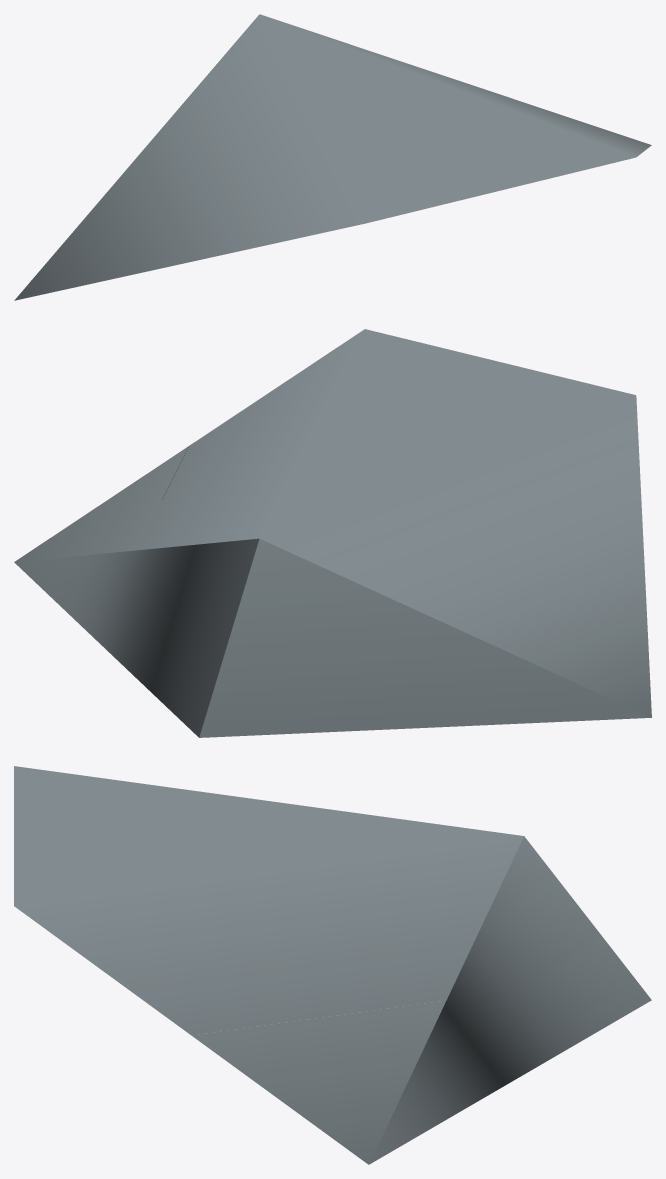
The model's file is rock-mid.glb.
3 renders of one model, top to bottom at view 1: azimuth 30°, elevation 25°; view 2: azimuth 150°, elevation 25°; view 3: azimuth 270°, elevation 25°, orthographic. The views are drawn at different scales.
Visible parts, largest first — view 1: rock_single_A; view 2: rock_single_A; view 3: rock_single_A.
Boxes of the visible parts, x1,y1,x2,y2 form: rock_single_A: (14,14,651,300); rock_single_A: (14,329,651,737); rock_single_A: (14,766,651,1164).
Bounding box in the file's own units: 0.2982 × 0.0693 × 0.2441.
1 material, 1 textured.
